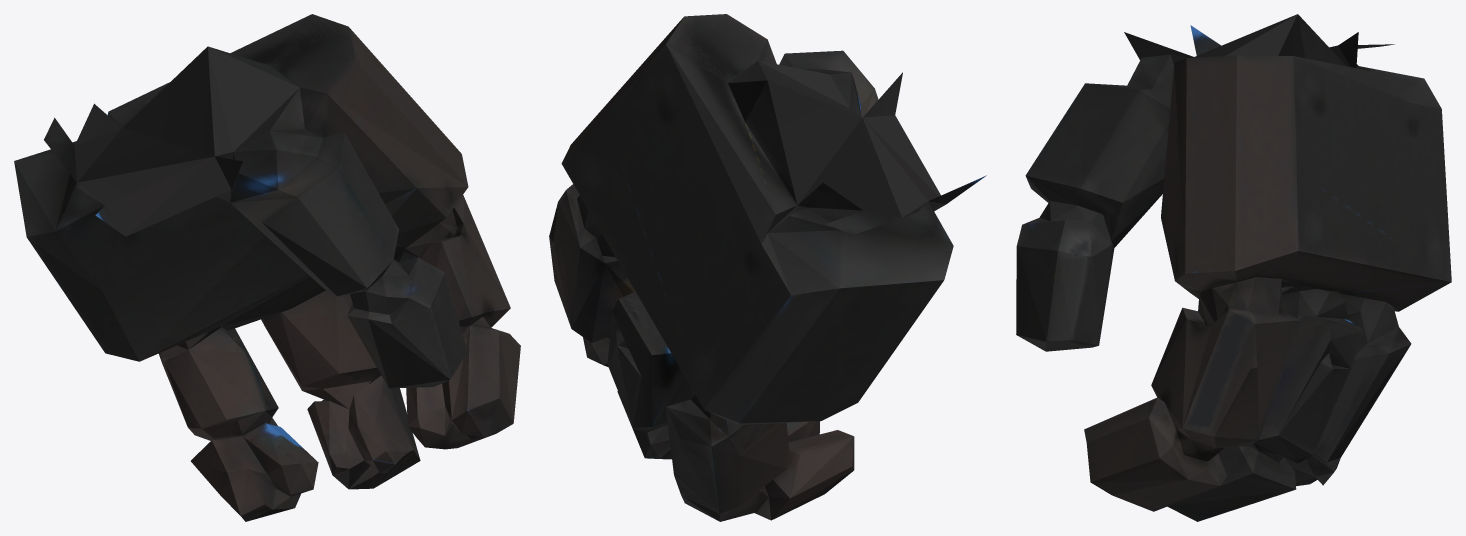
The model's file is SM_HeavyDebris_Forearm_L.fbx.
The picture shows the model from 3 angles, left to right: view 1: azimuth 30°, elevation 25°; view 2: azimuth 150°, elevation 25°; view 3: azimuth 270°, elevation 25°; orthographic projection. The views are drawn at different scales.
Parts seen in each view (by area): view 1: SM_HeavyDebris_Forearm_L; view 2: SM_HeavyDebris_Forearm_L; view 3: SM_HeavyDebris_Forearm_L.
Part boxes in pixels (x1,y1,x2,y2): SM_HeavyDebris_Forearm_L: [14, 14, 520, 521]; SM_HeavyDebris_Forearm_L: [549, 14, 986, 521]; SM_HeavyDebris_Forearm_L: [1016, 14, 1451, 521].
Bounding box in the file's own units: 58.12 × 58.97 × 49.74.
Materials: 1 (1 with a texture image).
